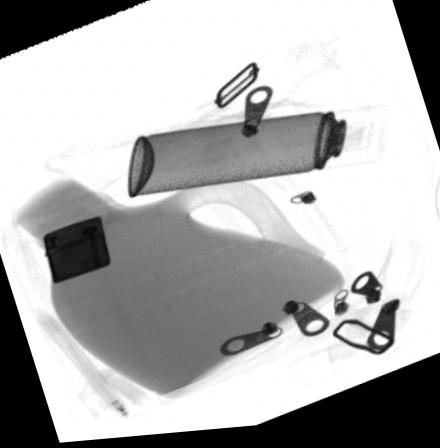Lighter: (42, 216, 110, 284)
Sprayer: (127, 109, 389, 200)
